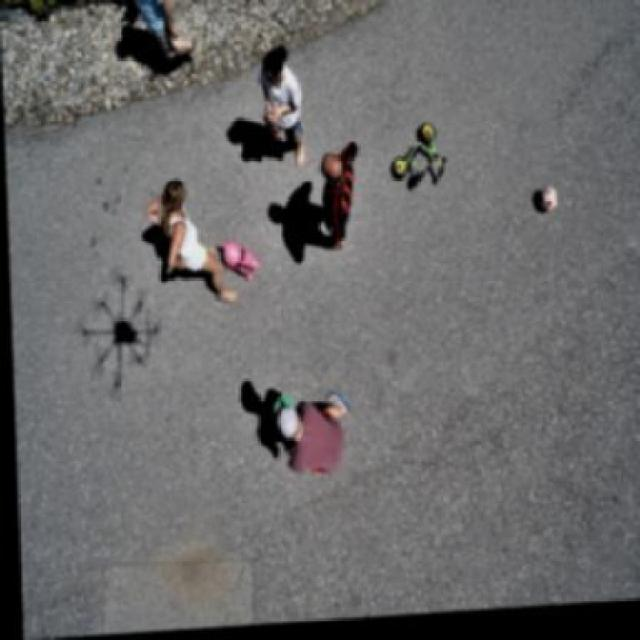Person: (131, 170, 243, 318), (261, 384, 356, 485), (245, 41, 308, 172), (310, 135, 359, 259)
